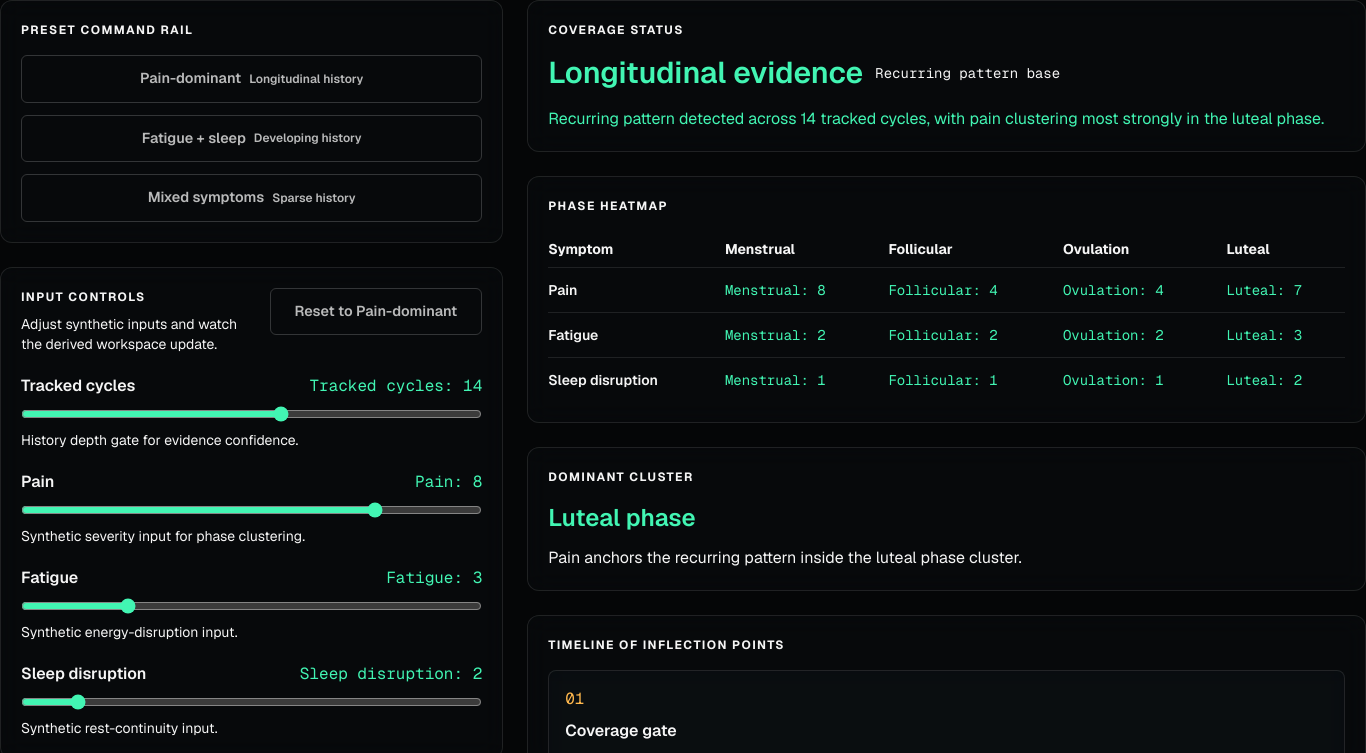
Test case: InteractiveFrameworkPreview › switches presets, updates sliders, and resets to the active seed
Click the button "Mixed symptoms Sparse history" at point(252, 198), box [21, 174, 482, 222]
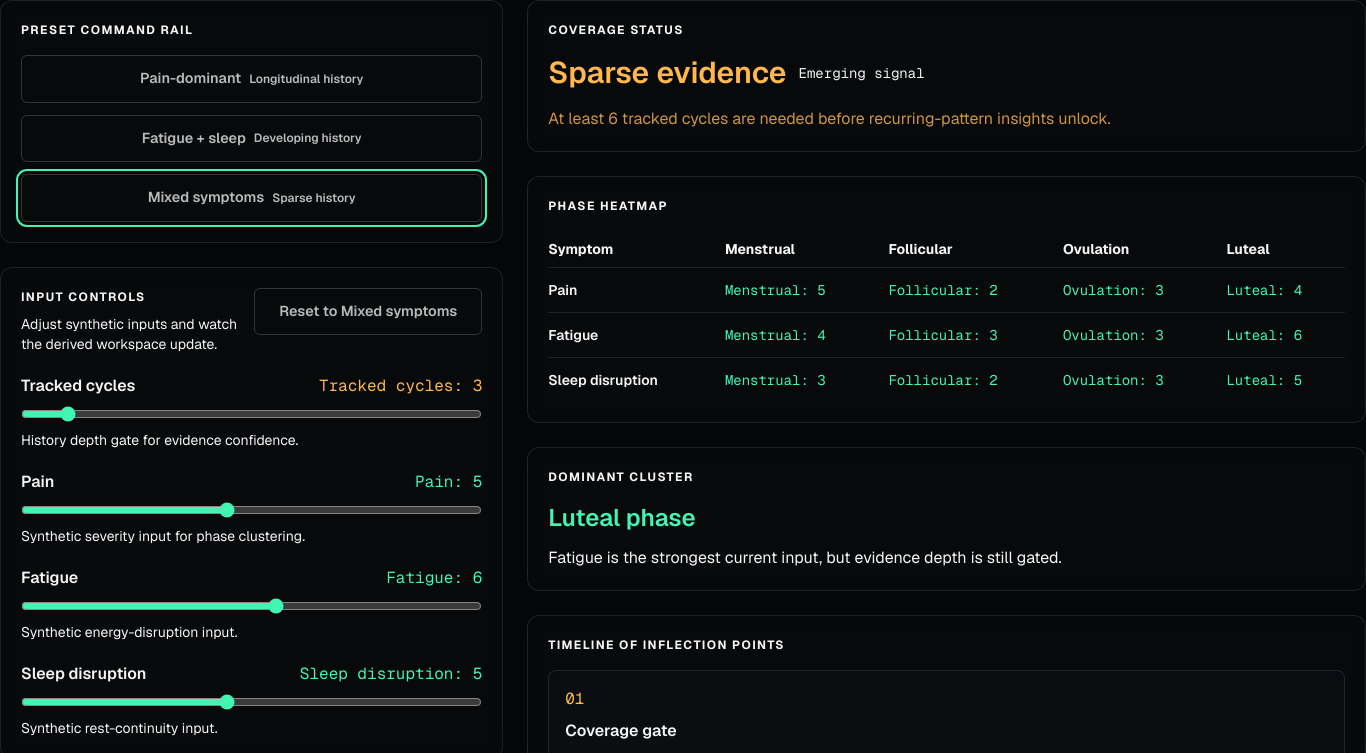
Expected: the slider labelled "Tracked cycles" holds "3"
Expected: the text "Sparse evidence" is shown, [548, 55, 787, 91]
Expected: the text "At least 6 tracked cycles" is shown, [548, 108, 1111, 129]
Set the slider labelled "Tracked cycles" to "4" at point(87, 414), box [21, 406, 482, 422]
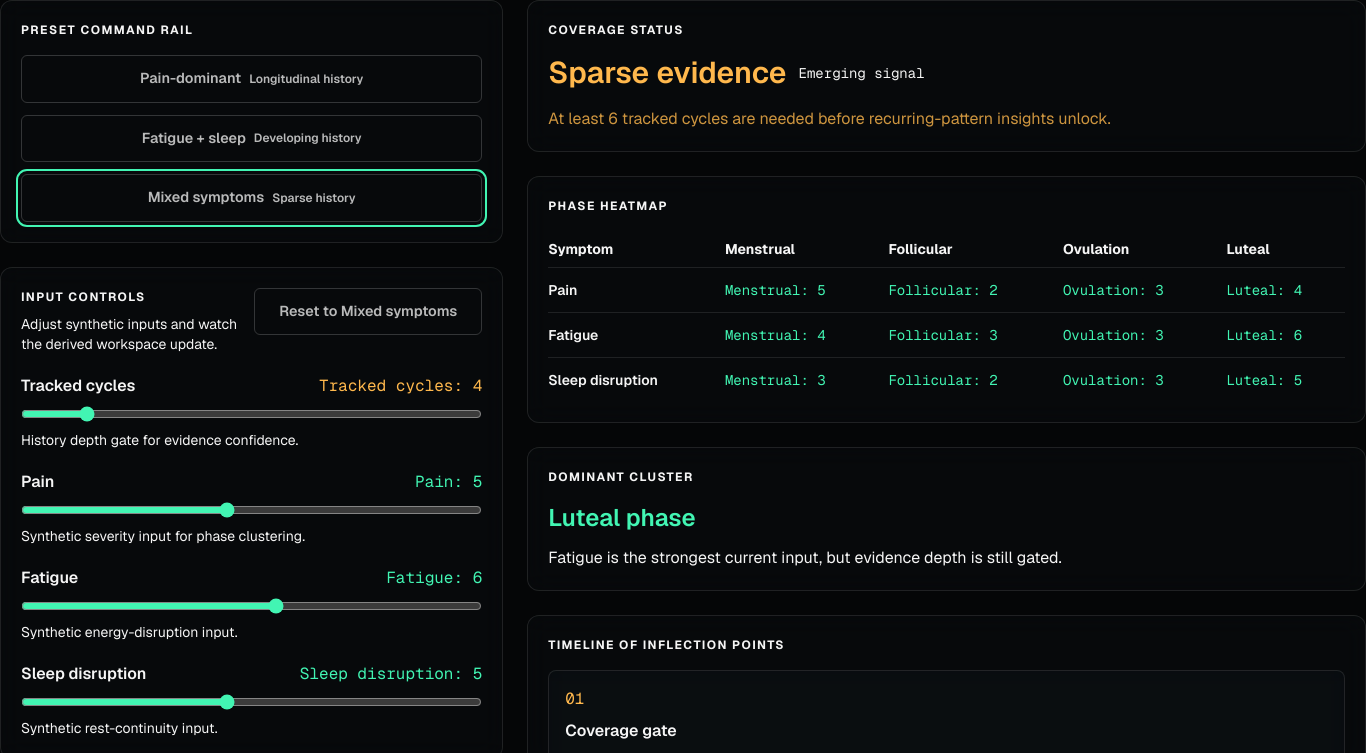
Click the button "Reset to Mixed symptoms" at point(368, 312), box [254, 288, 482, 335]
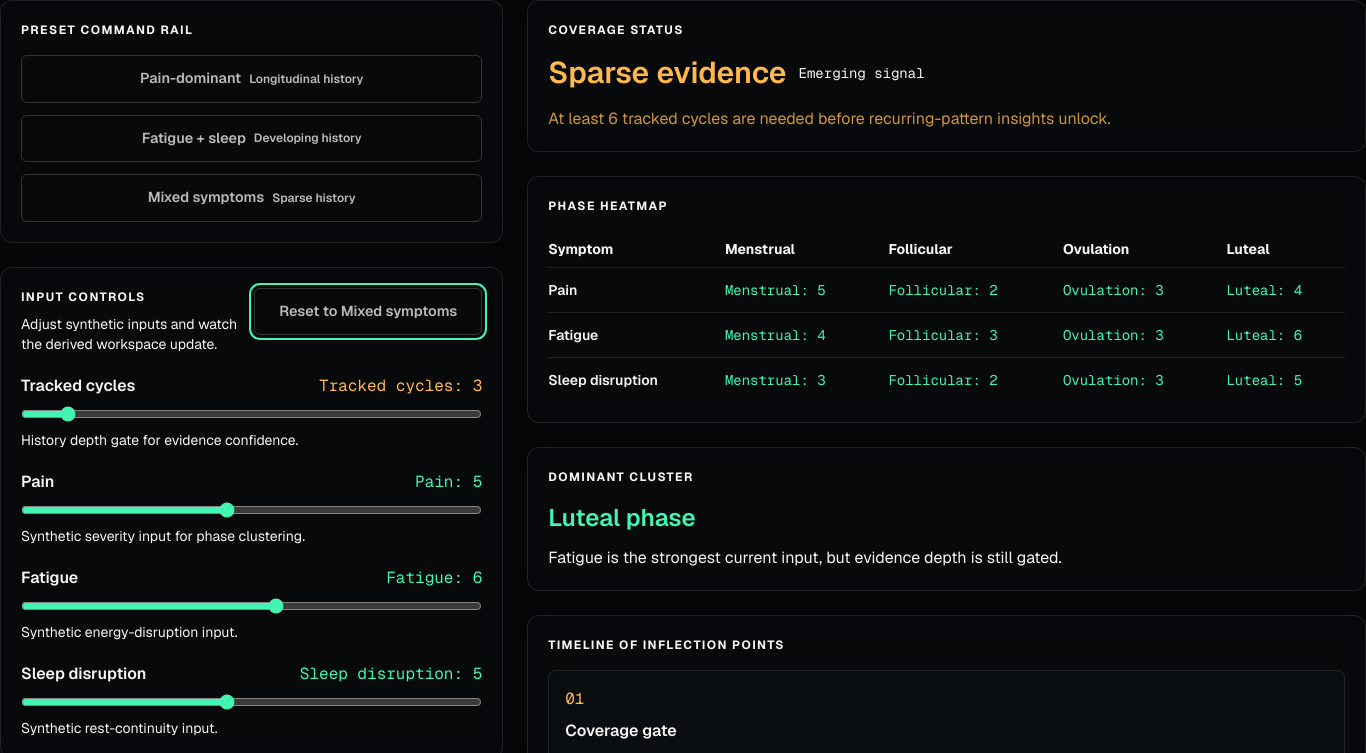
Expected: the slider labelled "Tracked cycles" holds "3", [21, 406, 482, 422]
